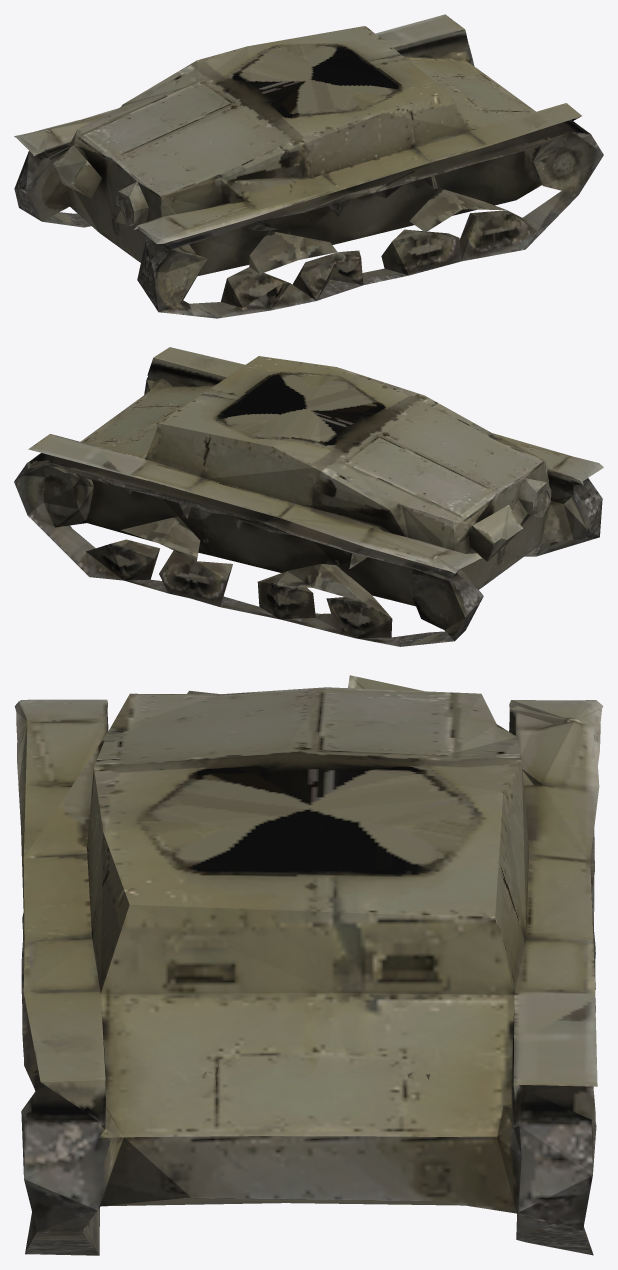
The model's file is hull.obj.
The picture shows the model from 3 angles, top to bottom: view 1: azimuth 30°, elevation 25°; view 2: azimuth 150°, elevation 25°; view 3: azimuth 270°, elevation 25°; orthographic projection. The views are drawn at different scales.
Size of the model in its own units: 1 by 0.3289 by 0.564.
1 material, 1 textured.
